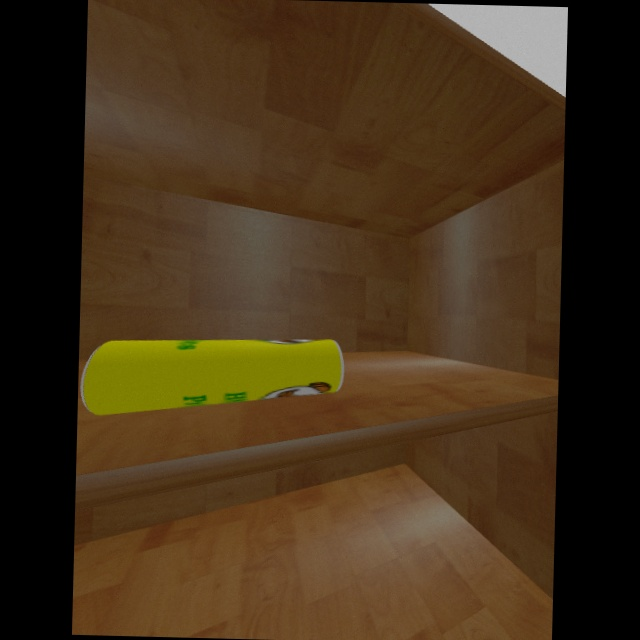chipsdose_gelb: (80, 338, 343, 415)
